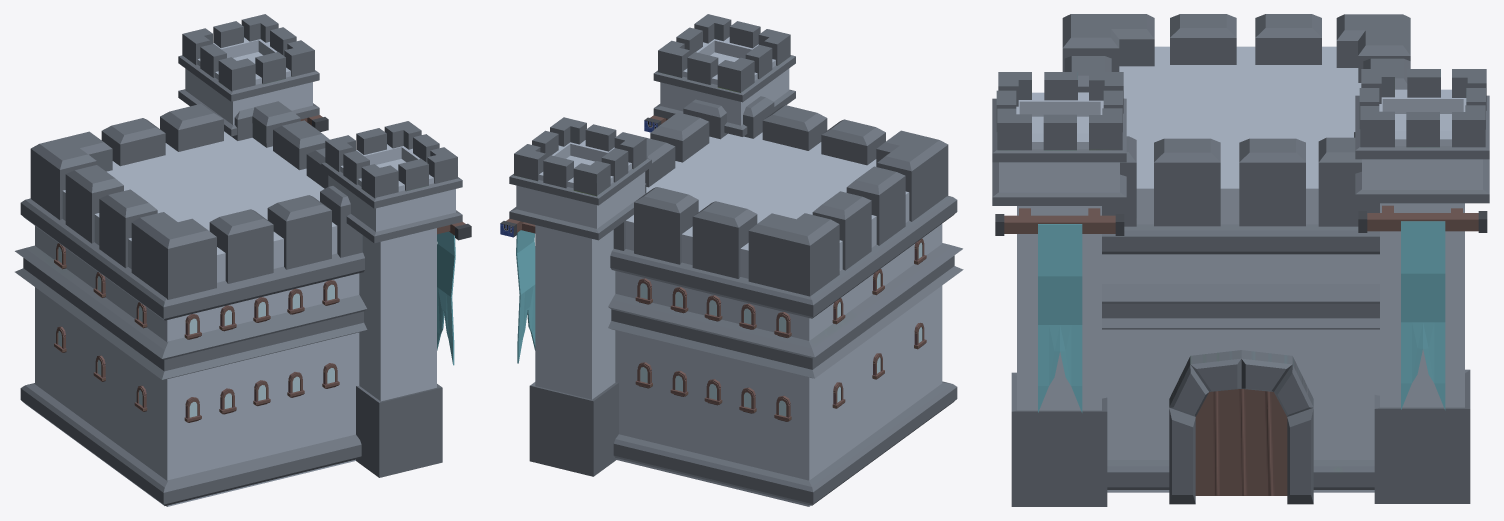
3 renders of one model, left to right at view 1: azimuth 30°, elevation 25°; view 2: azimuth 150°, elevation 25°; view 3: azimuth 270°, elevation 25°, orthographic. The views are drawn at different scales.
Parts seen in each view (by area): view 1: Castelo_0; view 2: Castelo_0; view 3: Castelo_0.
Boxes of the visible parts, x1,y1,x2,y2 form: Castelo_0: (15,14,471,506); Castelo_0: (500,14,963,506); Castelo_0: (992,14,1489,506).
Bounding box in the file's own units: 15.37 × 15.86 × 18.06.
Materials: 1 (1 with a texture image).
